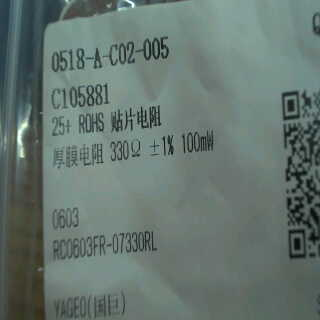330R: (108, 137, 145, 163)
